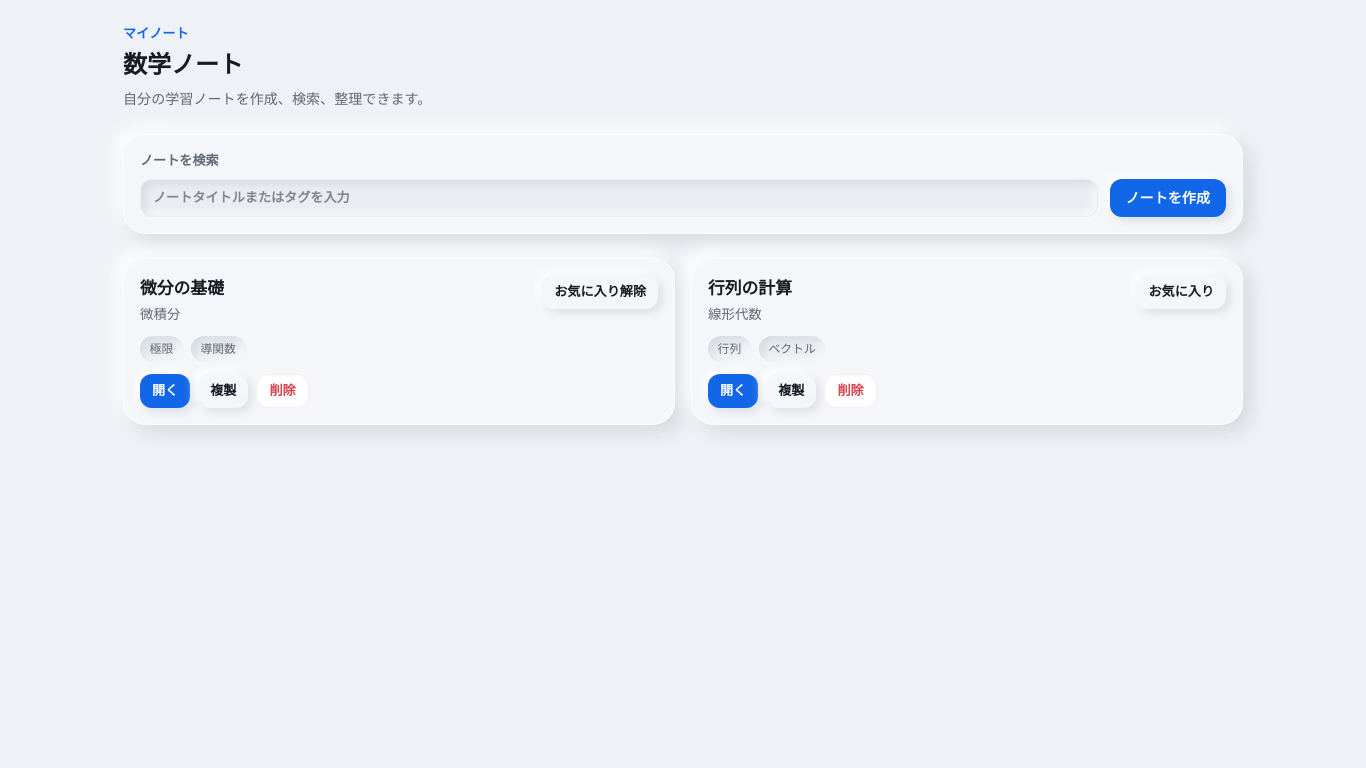
Test case: NotesListView › 作成ボタンからモーダルを開いてノートを作成する
Click the button with test id "open-create-note": (1168, 198) [1110, 179, 1226, 217]
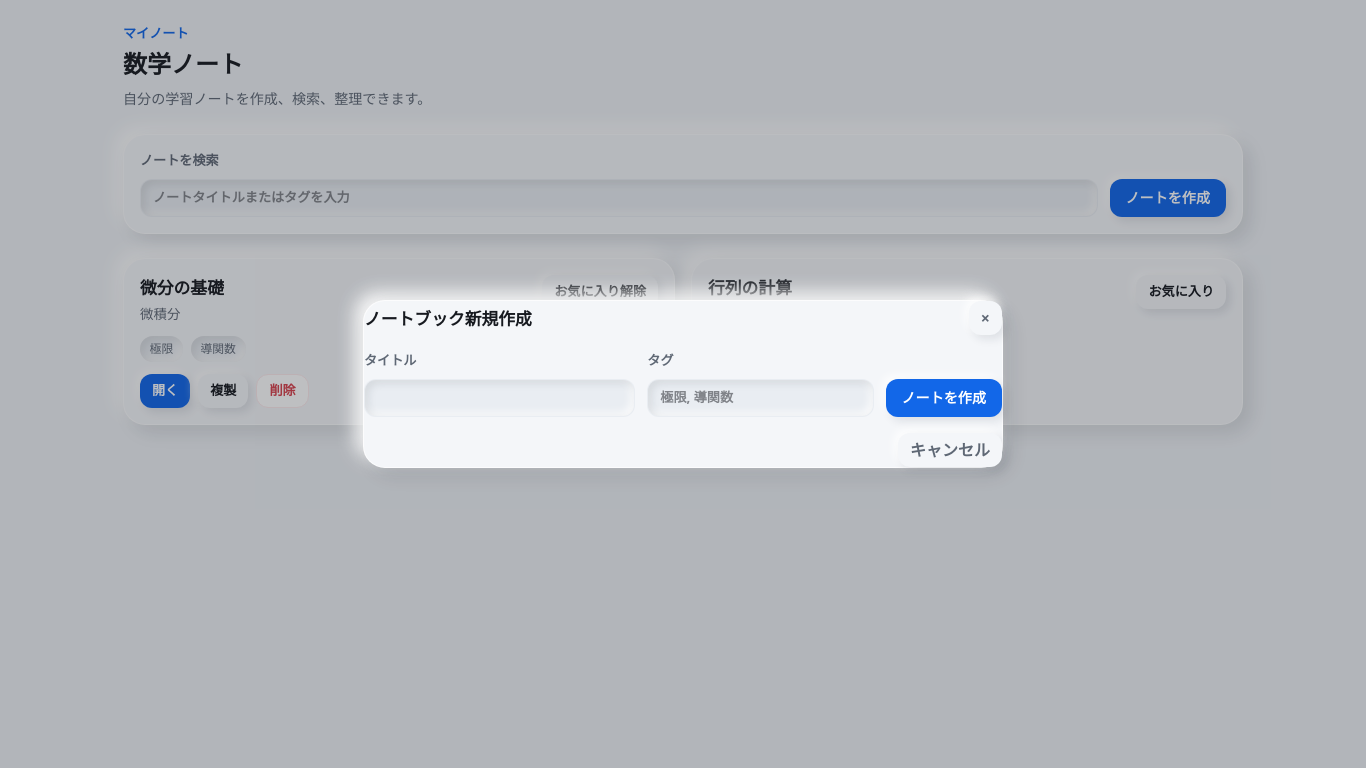
In the field with test id "note-title": (500, 398) [364, 379, 635, 417], type "確率分布"
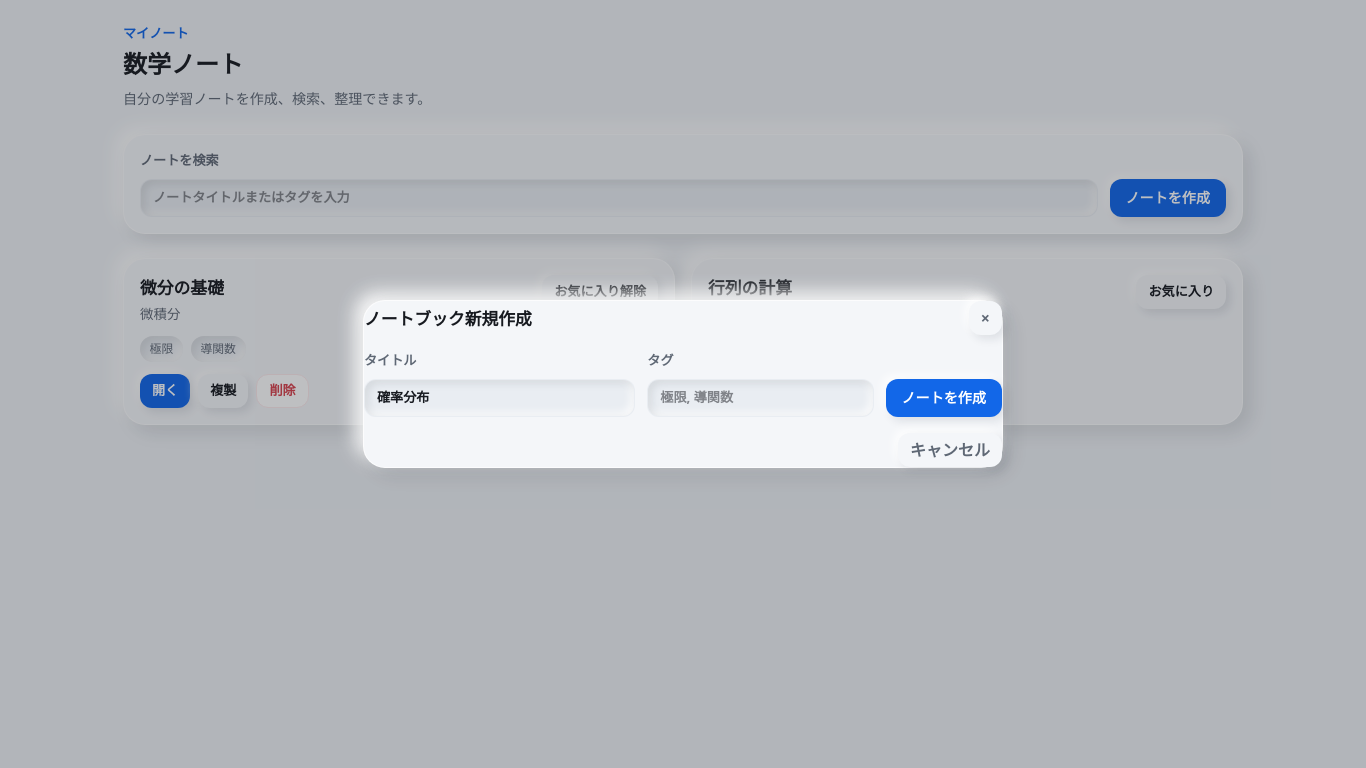
In the field with test id "note-tags": (760, 398) [647, 379, 874, 417], type "確率, 分布"
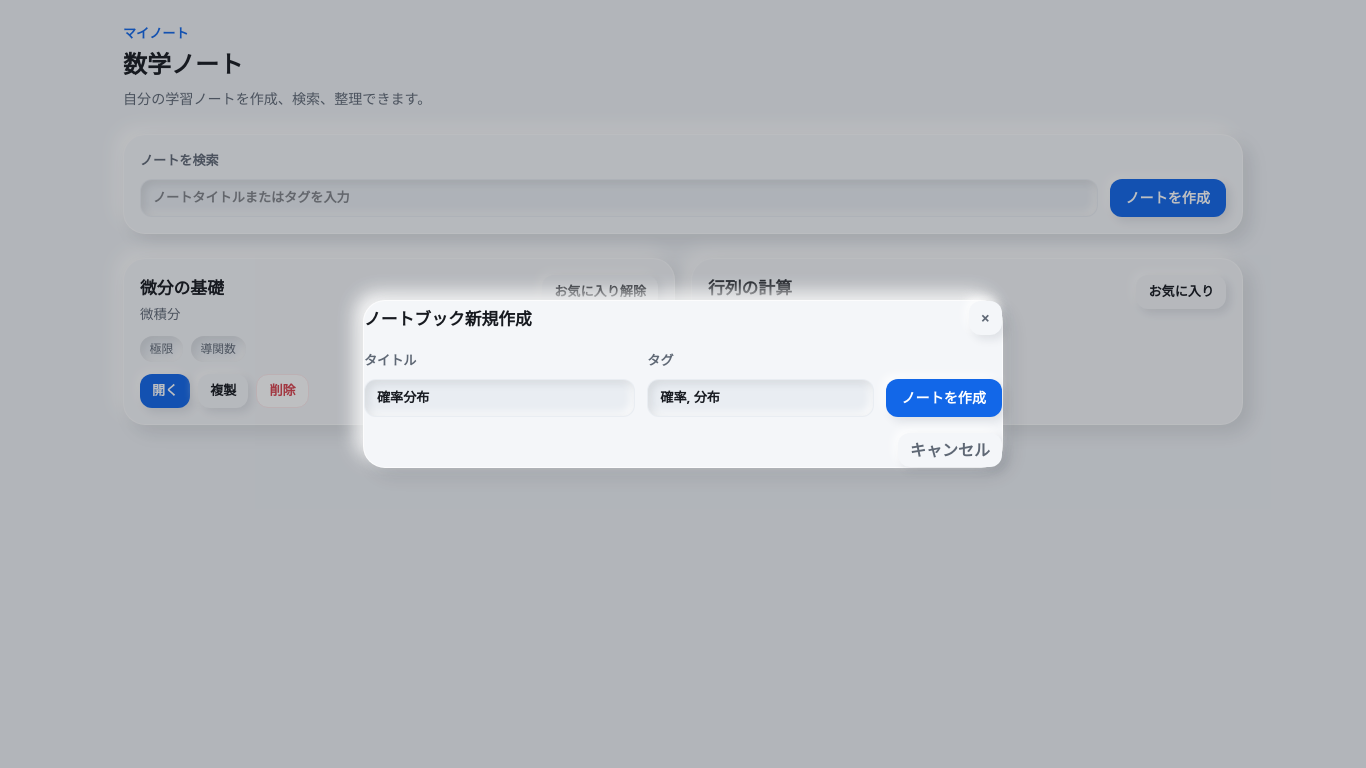
Submit the form, box [364, 351, 1002, 417]
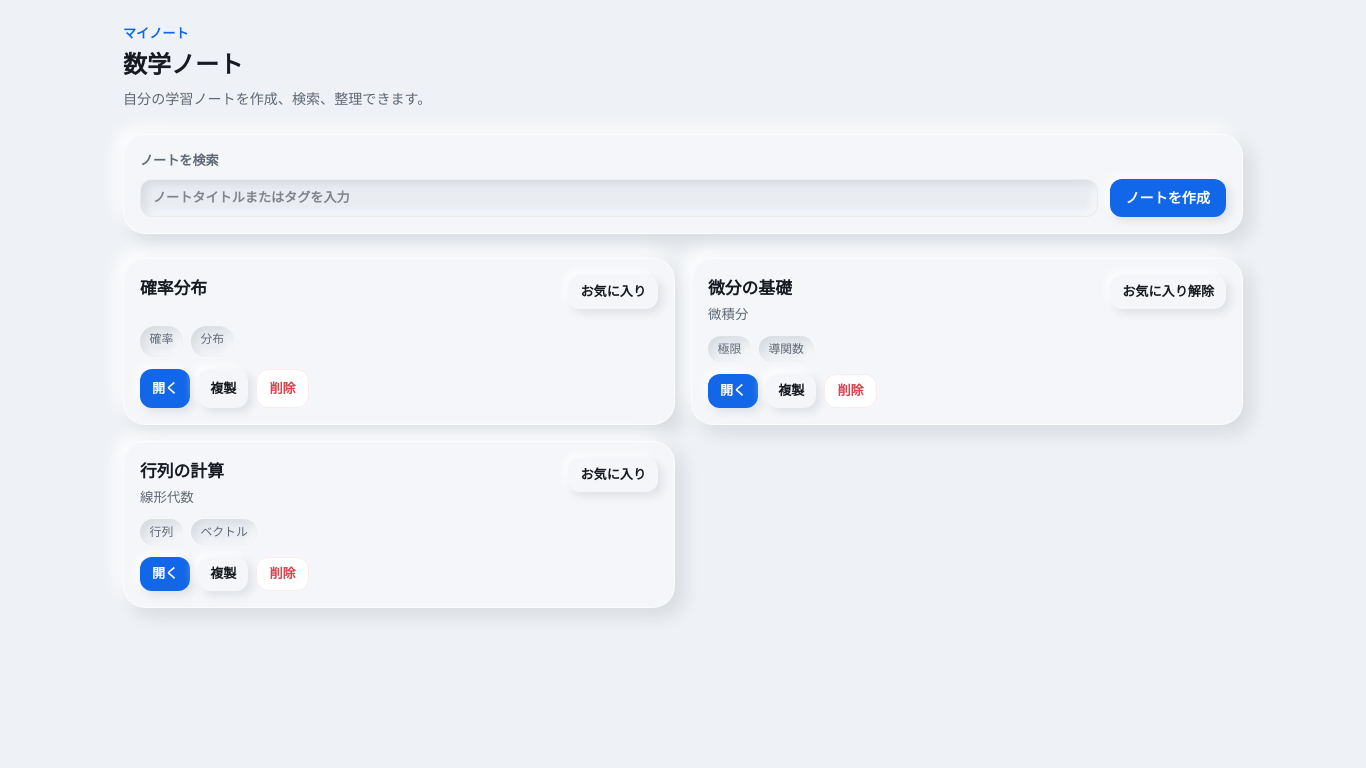
Now the text "確率分布" is shown, box [140, 275, 207, 300]
